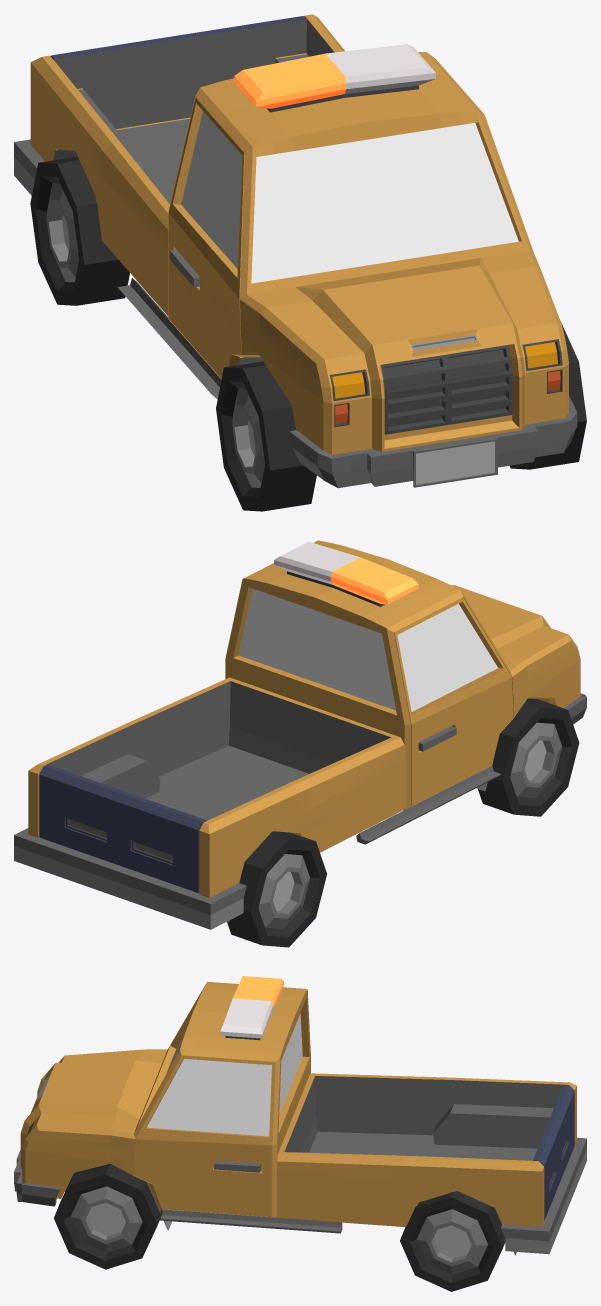
Rendered from Orange Truck.fbx.
3 renders of one model, top to bottom at view 1: azimuth 30°, elevation 25°; view 2: azimuth 150°, elevation 25°; view 3: azimuth 270°, elevation 25°, orthographic. The views are drawn at different scales.
Parts seen in each view (by area): view 1: Orange_Truck; view 2: Orange_Truck; view 3: Orange_Truck.
Part boxes in pixels (<box>): Orange_Truck: <box>14,14,586,511</box>; Orange_Truck: <box>14,540,586,947</box>; Orange_Truck: <box>14,976,586,1291</box>.
Bounding box in the file's own units: 221 × 184 × 413.
